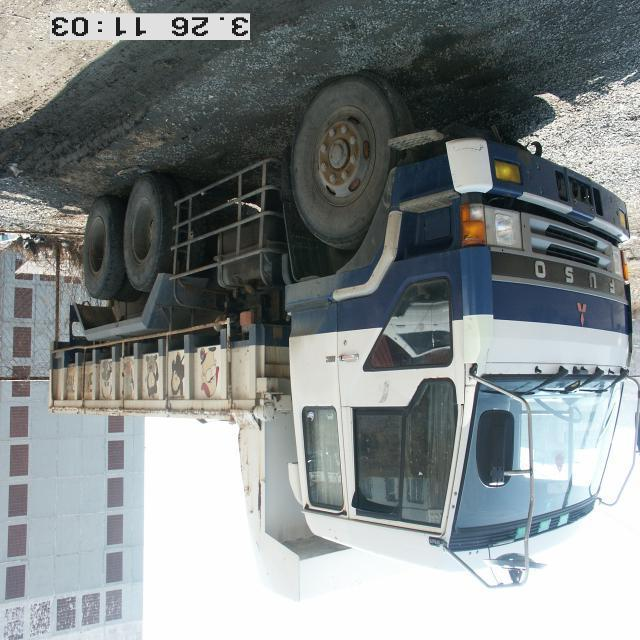truck: (47, 69, 640, 566)
